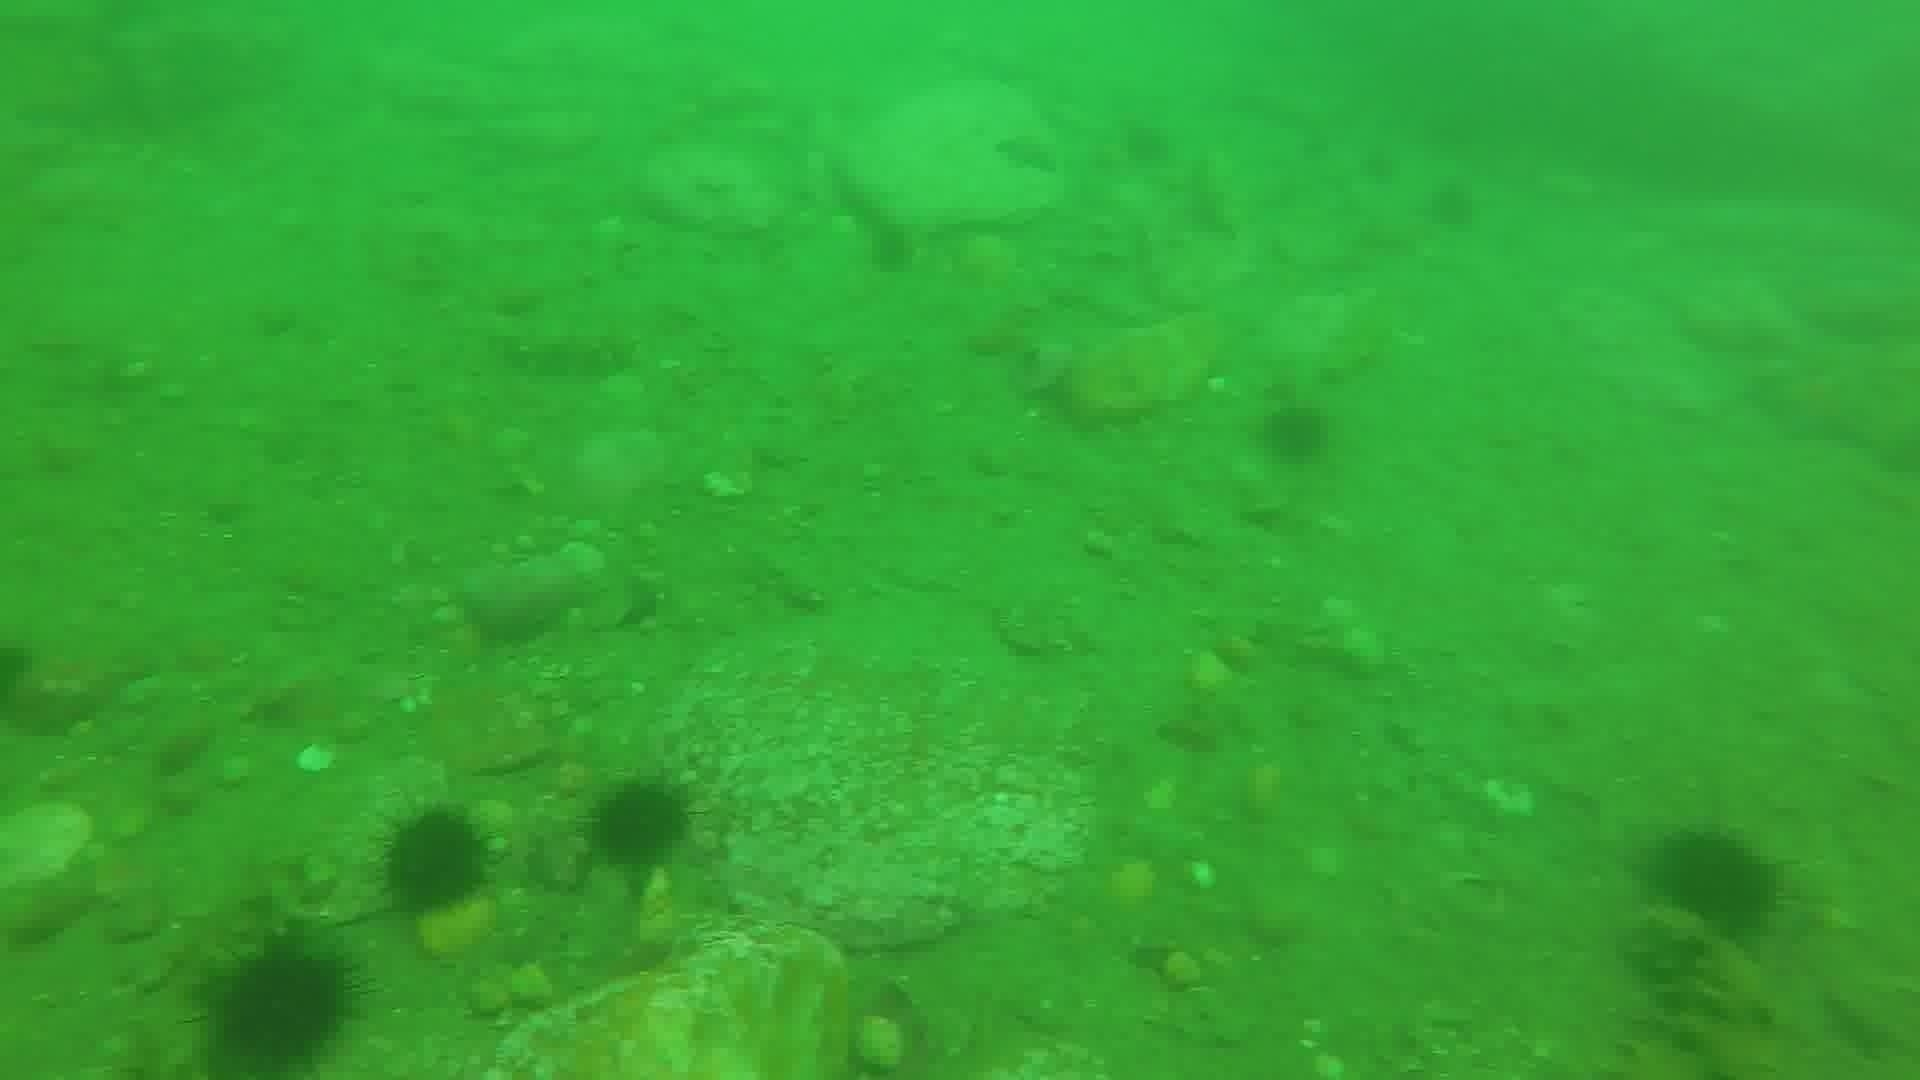echinus: (203, 934, 363, 1071), (1643, 825, 1785, 942), (375, 802, 496, 920), (583, 775, 696, 876), (1255, 398, 1335, 469), (1420, 175, 1484, 236), (861, 218, 920, 278)
holothurian: (1619, 909, 1778, 1077), (492, 316, 640, 386)
starfish: (1749, 353, 1895, 462), (992, 127, 1063, 178)
